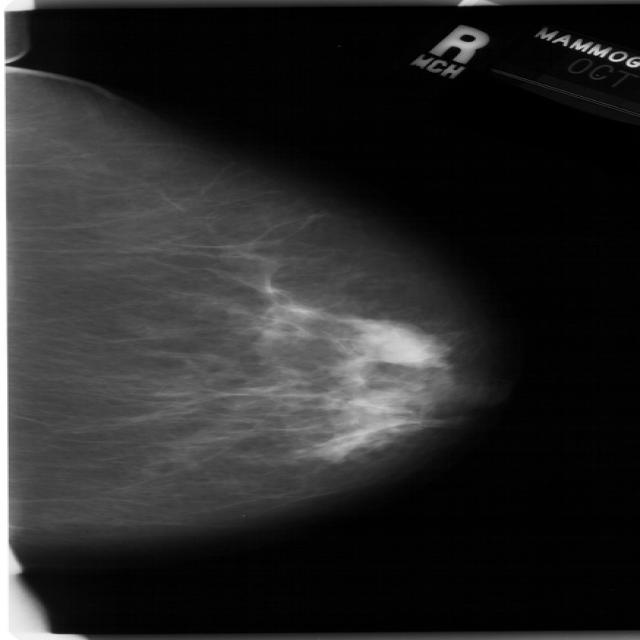tumour: (346, 316, 440, 364)
